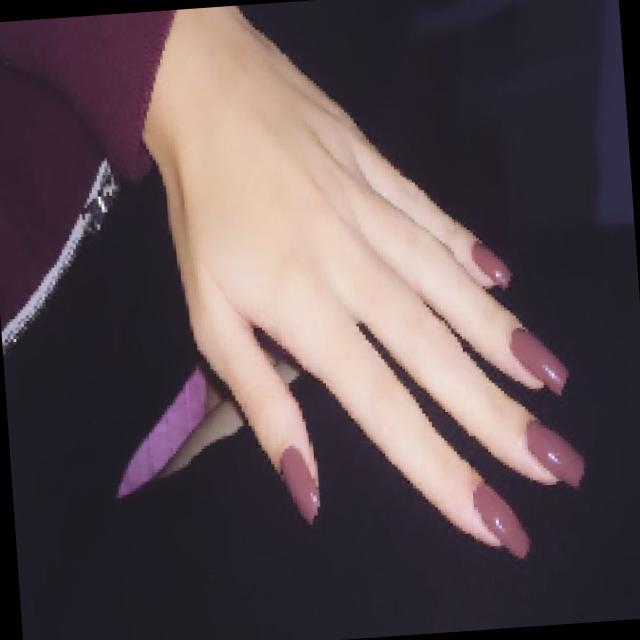Nail: (474, 480, 528, 558), (509, 327, 567, 394), (525, 421, 583, 487), (278, 446, 318, 523), (471, 241, 510, 288)
